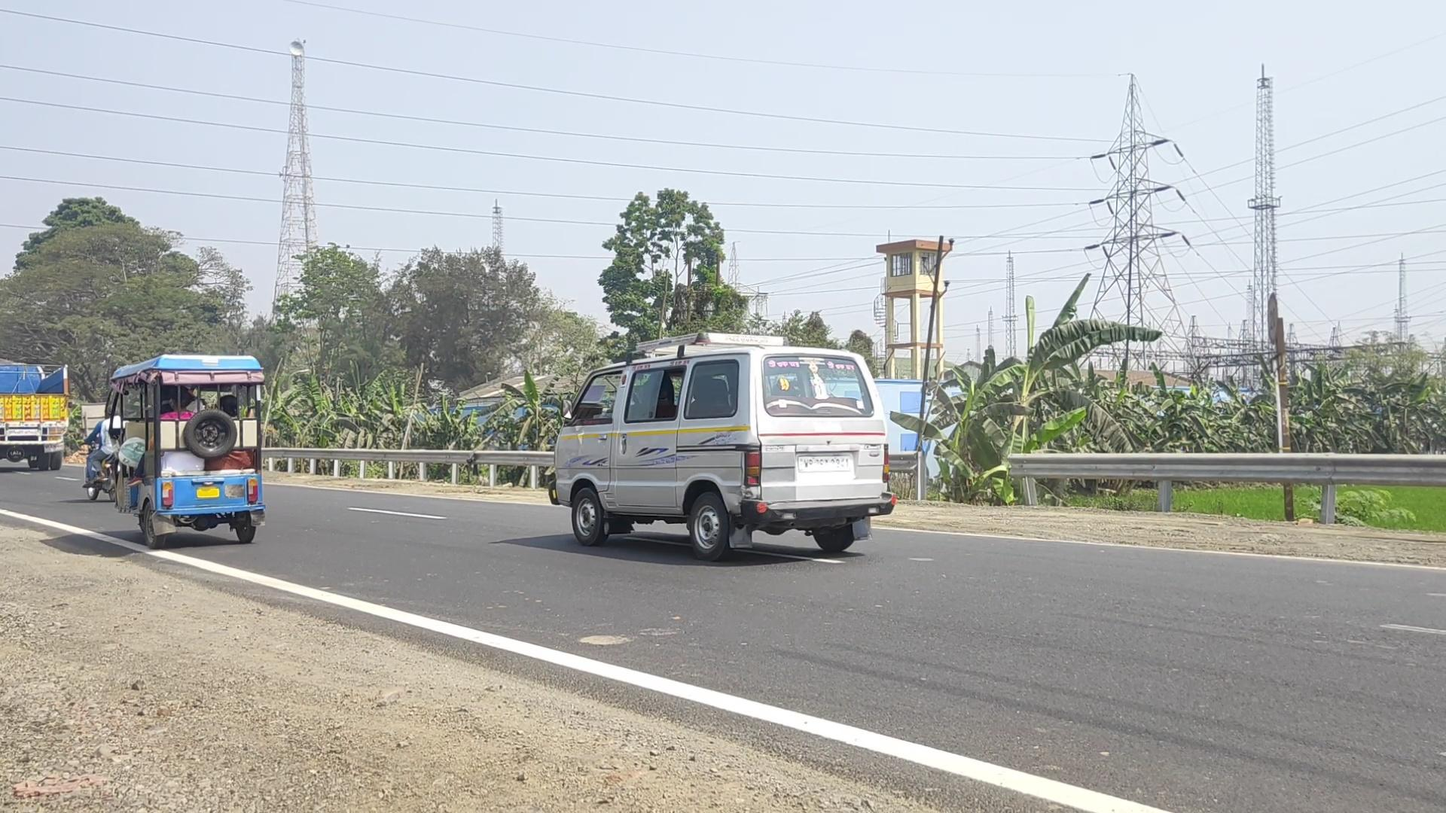Auto: (106, 355, 266, 550)
bike: (78, 403, 130, 503)
truck: (1, 358, 70, 473)
van: (548, 332, 897, 562)
